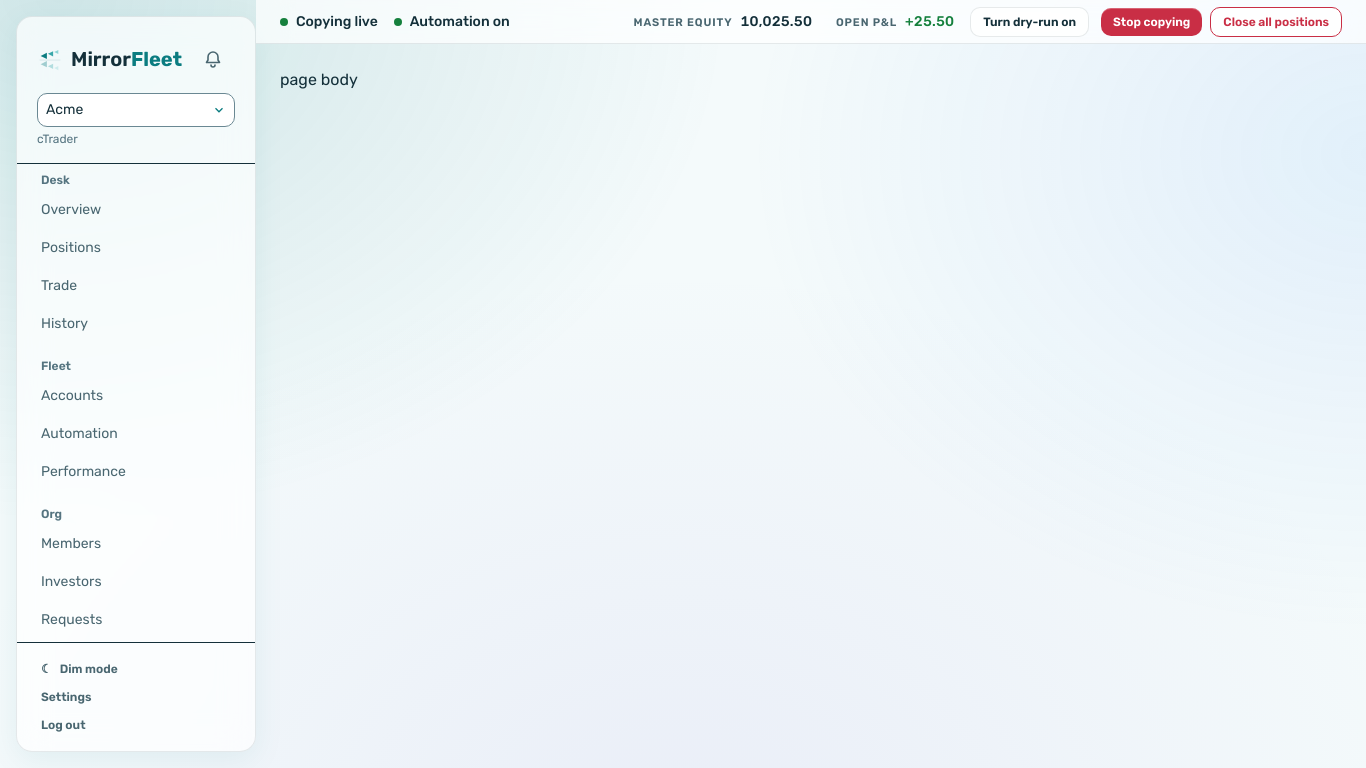
Scenario: the close-all confirm button stays disabled until CLOSE ALL is typed exactly
Click the button "Close all positions" at [1276, 22], box 1210,6 -> 1342,36
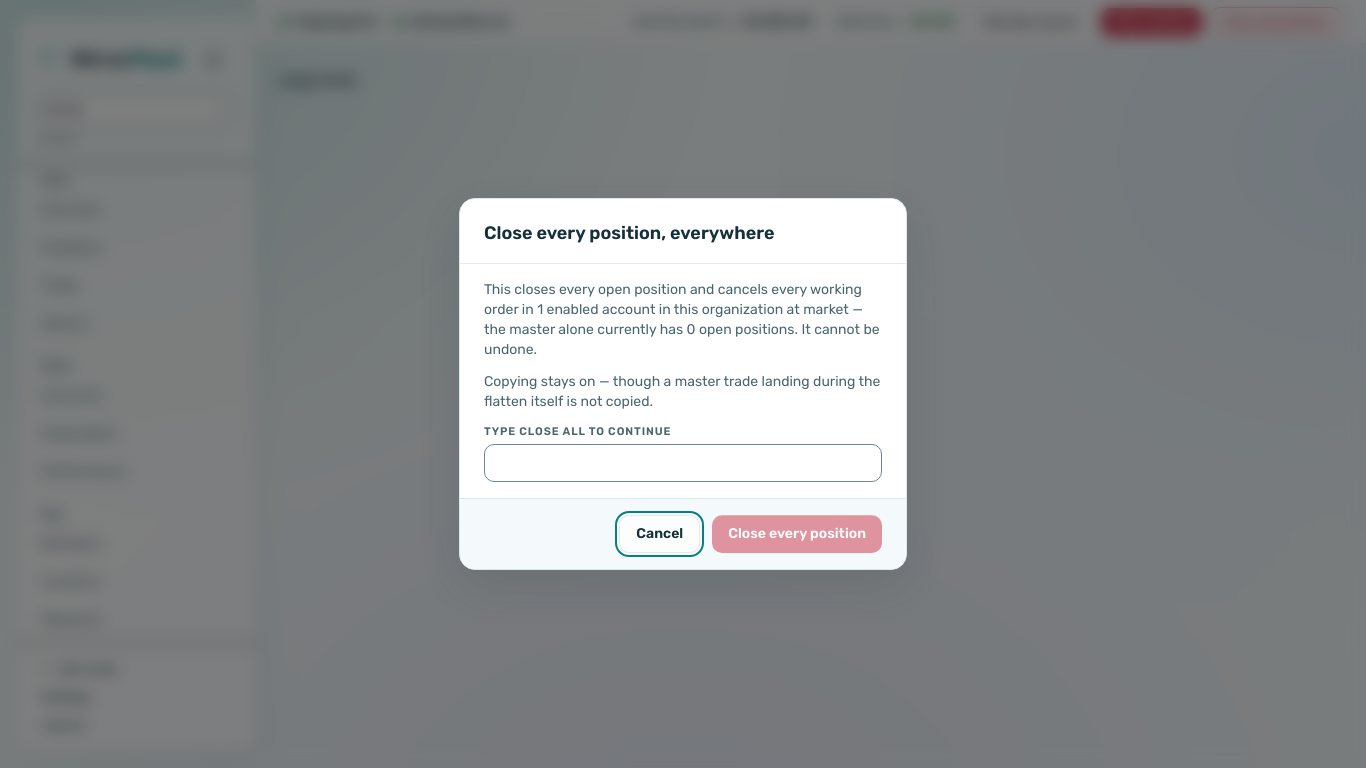
Now the button "Close every position" is disabled, box 712,515 -> 882,553
Type "close all" into the field labelled "Type CLOSE ALL to continue" at [683, 463], box 484,444 -> 882,482
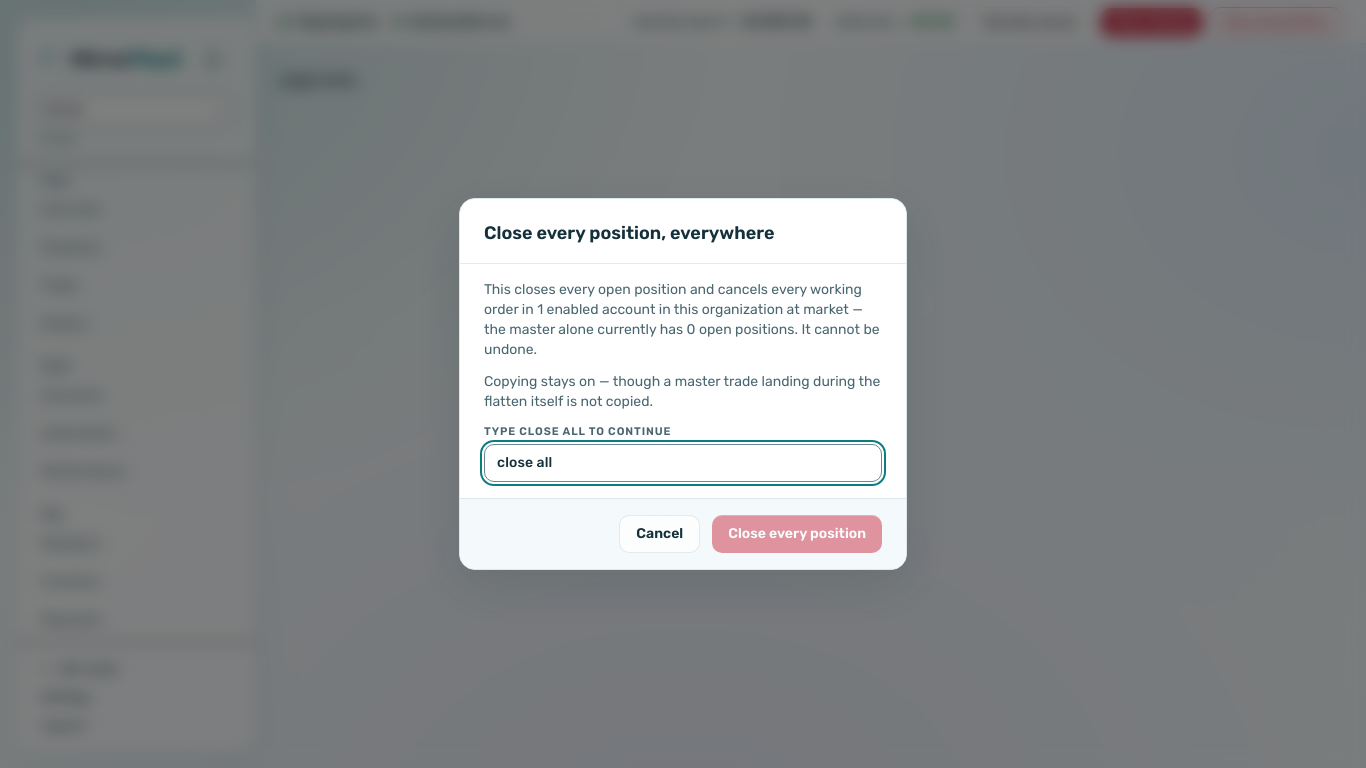
Now the button "Close every position" is disabled, box 712,515 -> 882,553
Replace the text in the field labelled "Type CLOSE ALL to continue" with "CLOSE ALL" at [683, 463], box 484,444 -> 882,482
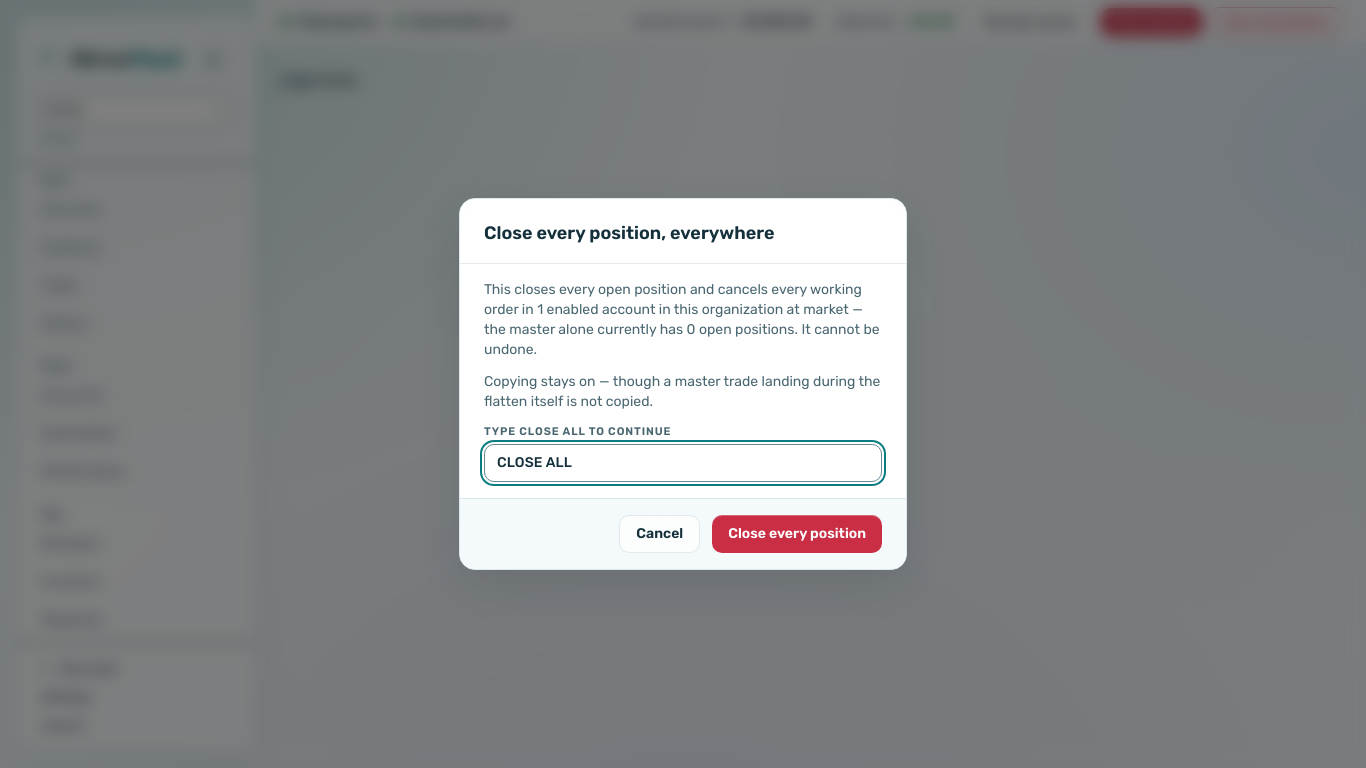
Now the button "Close every position" is enabled, box 712,515 -> 882,553
